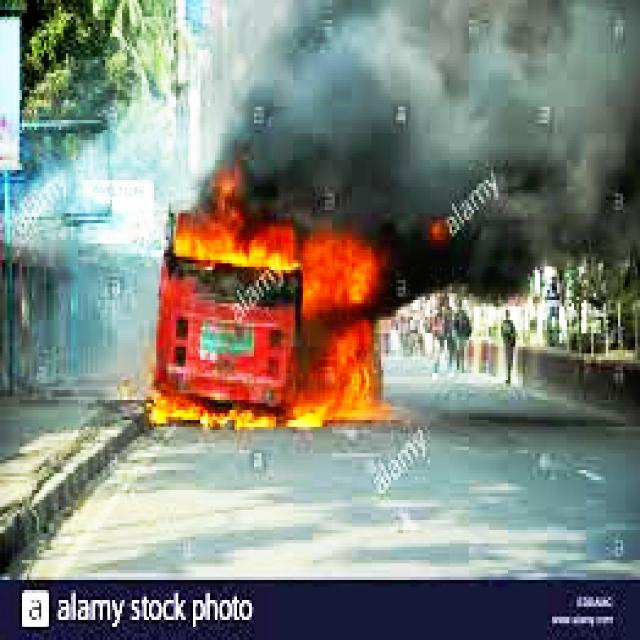api: (153, 171, 395, 424)
